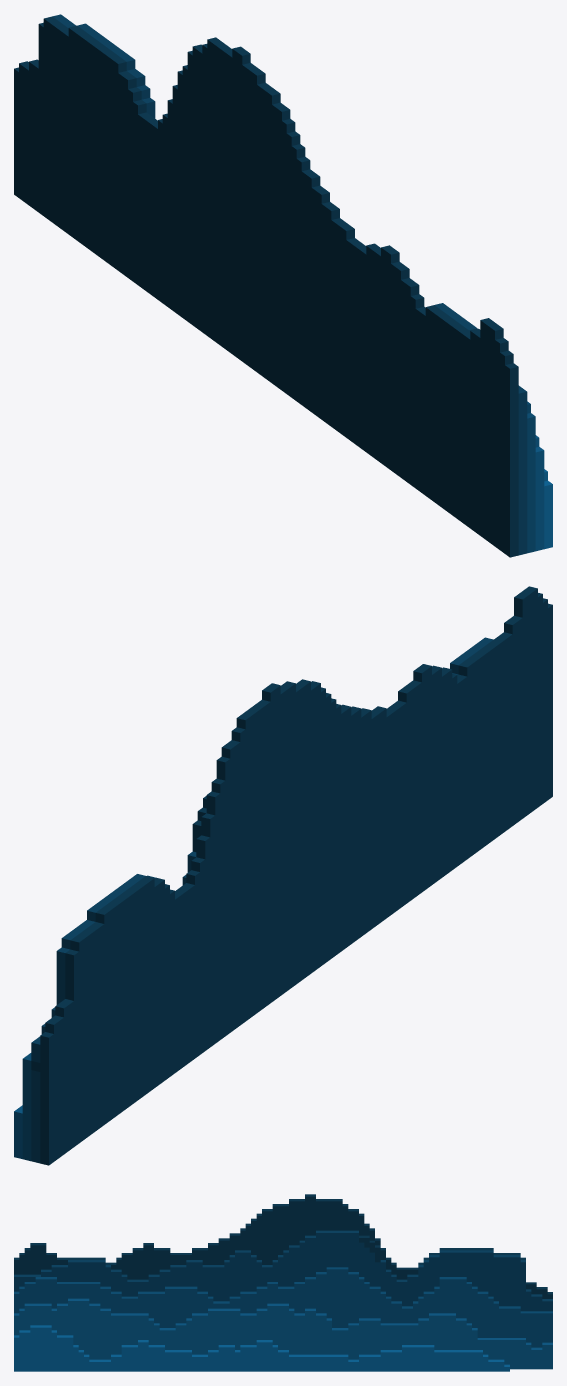
Rendered from Prefab2.obj.
The picture shows the model from 3 angles, top to bottom: view 1: azimuth 30°, elevation 25°; view 2: azimuth 150°, elevation 25°; view 3: azimuth 270°, elevation 25°; orthographic projection. The views are drawn at different scales.
Size of the model in its own units: 0.5 by 3.4 by 10.
Materials: 1 (1 with a texture image).
